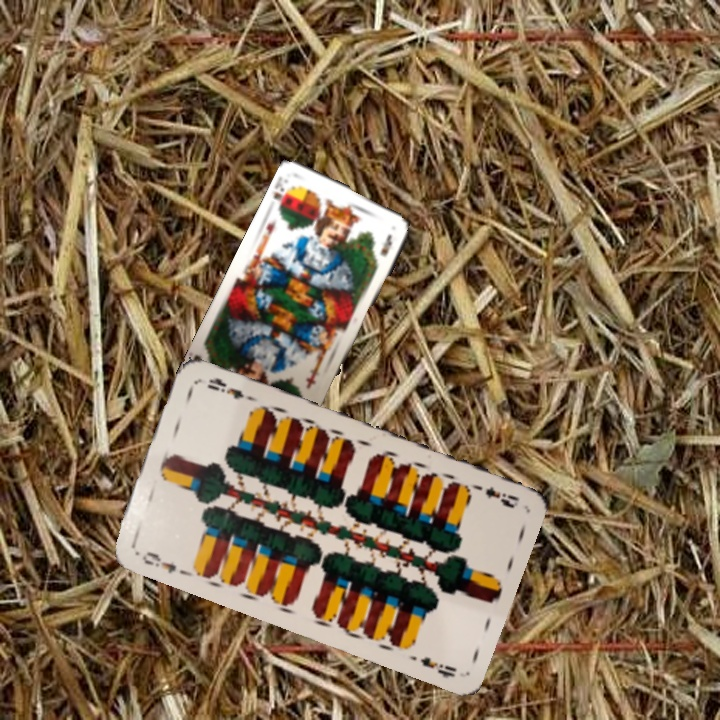E9: (466, 480, 522, 510), (138, 547, 179, 577)
SK: (269, 181, 290, 212)
